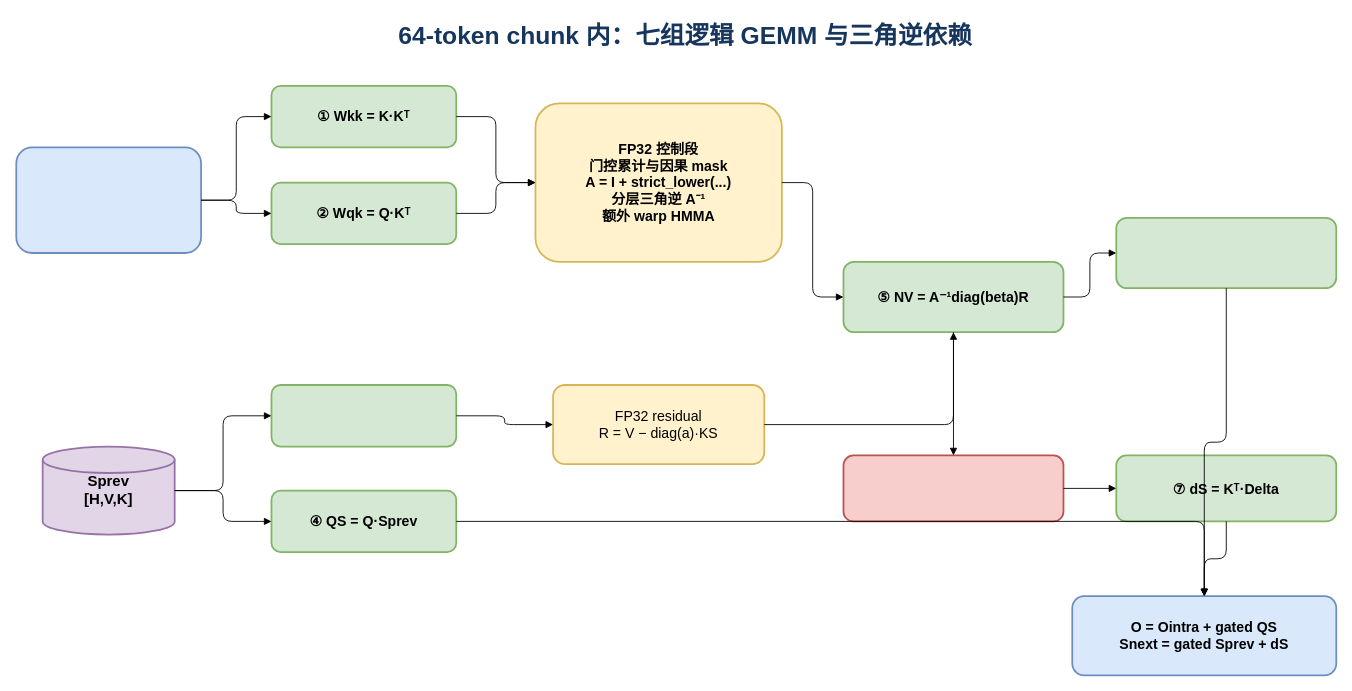
Image size: 1352x691. Some labels were removed from this diagram. Here are the shapes that lost their labels. From the top down, the centre of each, then its label:
At [108,199]: "Q / K / V FP16 或 BF16 gate / beta FP32".
At [1226,252]: "⑥ Ointra = Wqkv·NV".
At [363,415]: "③ KS = K·Sprev".
At [953,488]: "Delta：传播到 chunk 末".
